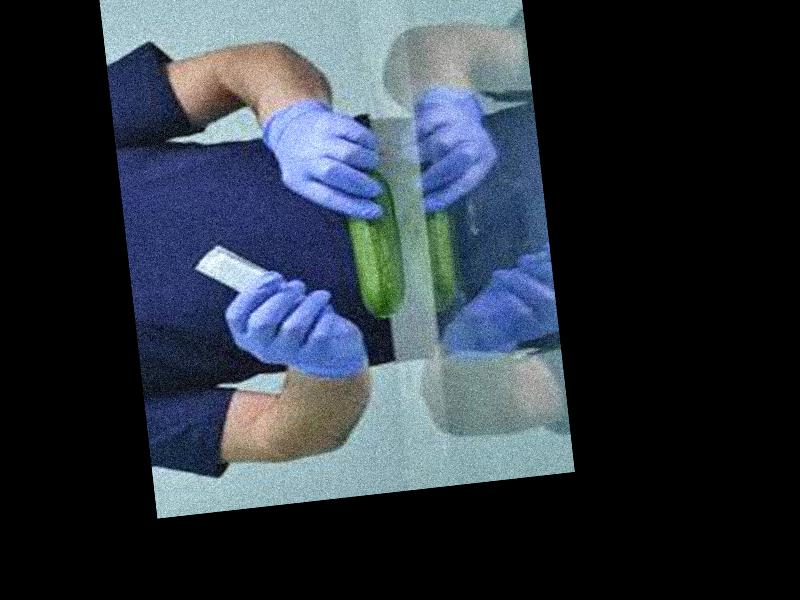Cucumber: (343, 169, 409, 321)
